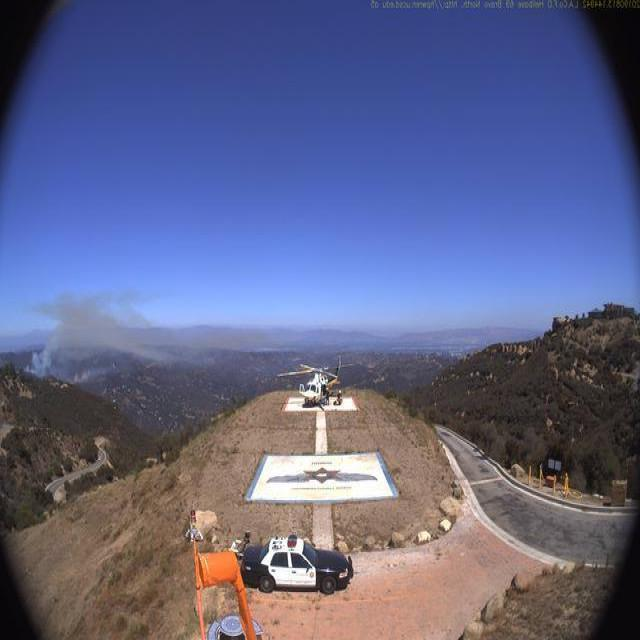Smoke: (22, 281, 193, 376)
